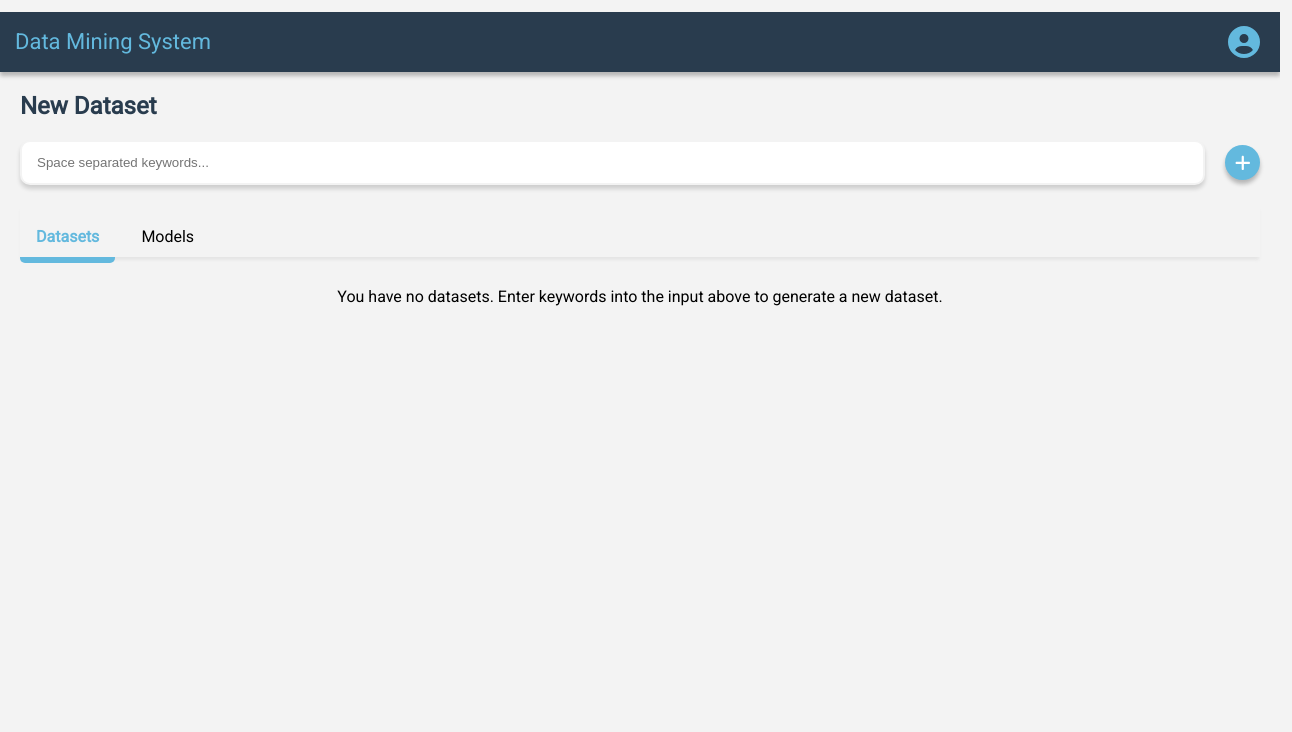
Test case: Analogy Test Page › Black box tests › should show error message if submit is clicked without entering word
This screenshot has width=1292, height=732.
Click the list item "Models".
click(168, 237)  # box x1=141 y1=227 x2=194 y2=246
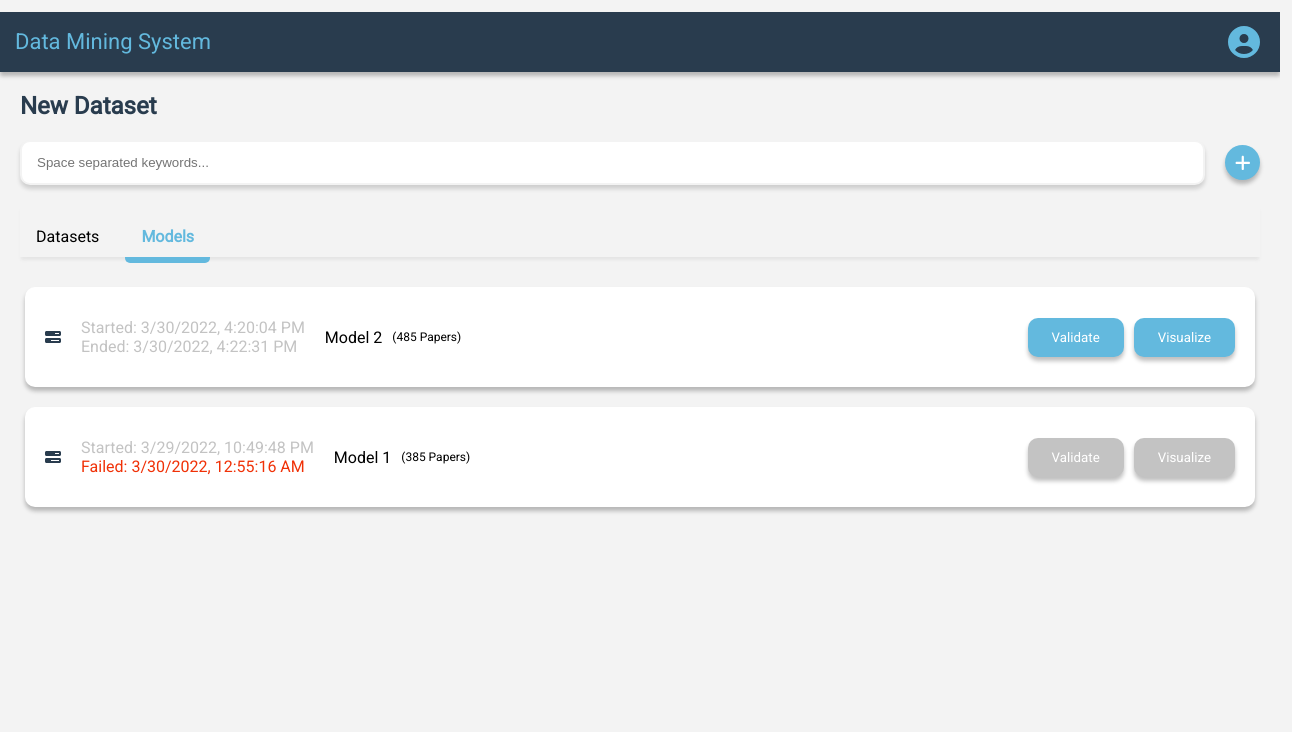
Click the button "Validate" in the row of "485".
click(1076, 338)  # box x1=1028 y1=318 x2=1124 y2=357
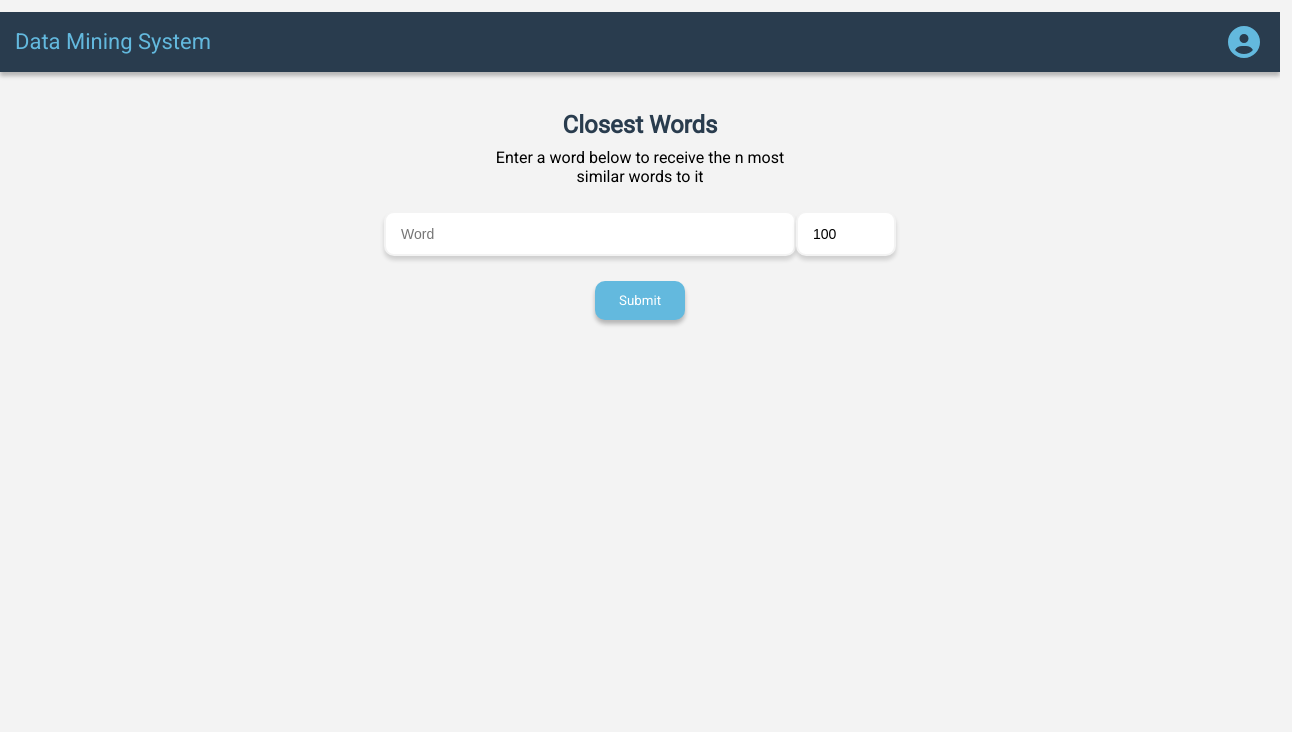
Type "word" into the field with id "closest-word-input".
click(590, 234); type("word")  # box x1=384 y1=211 x2=796 y2=256
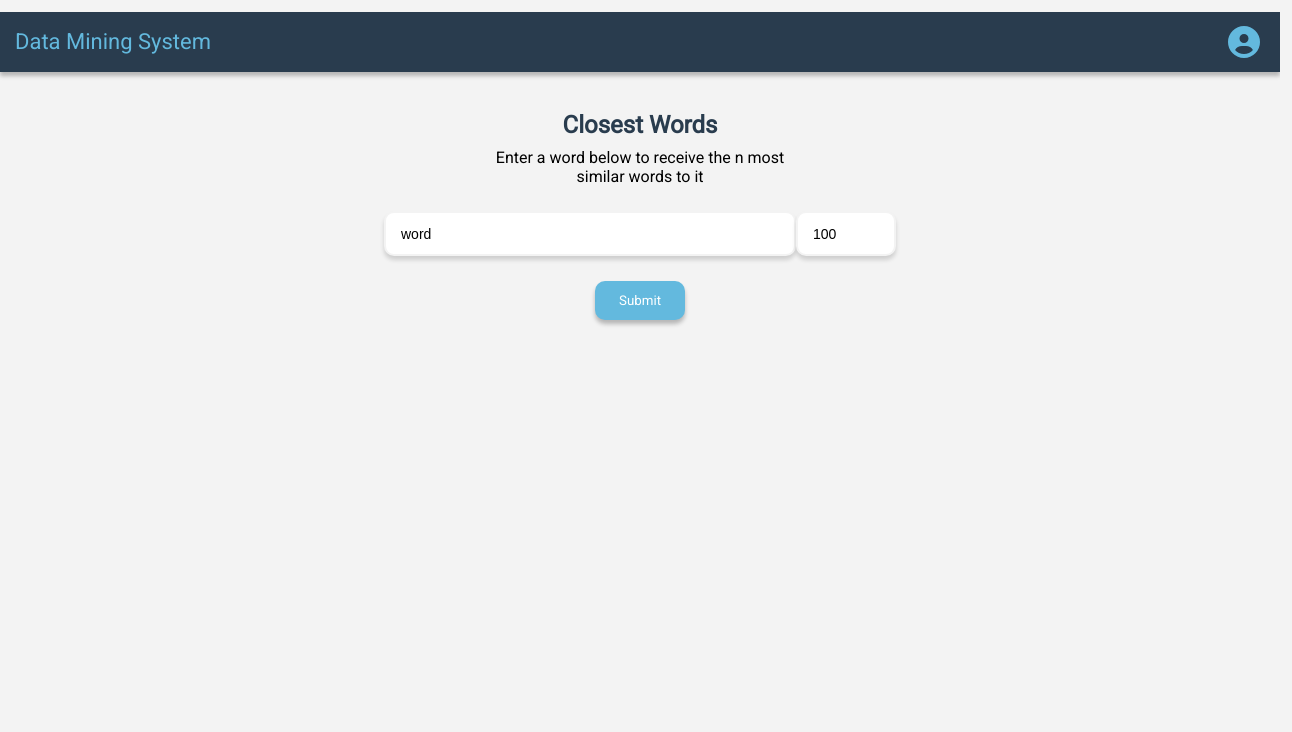
Click the button "Submit".
click(640, 301)  # box x1=595 y1=281 x2=685 y2=320
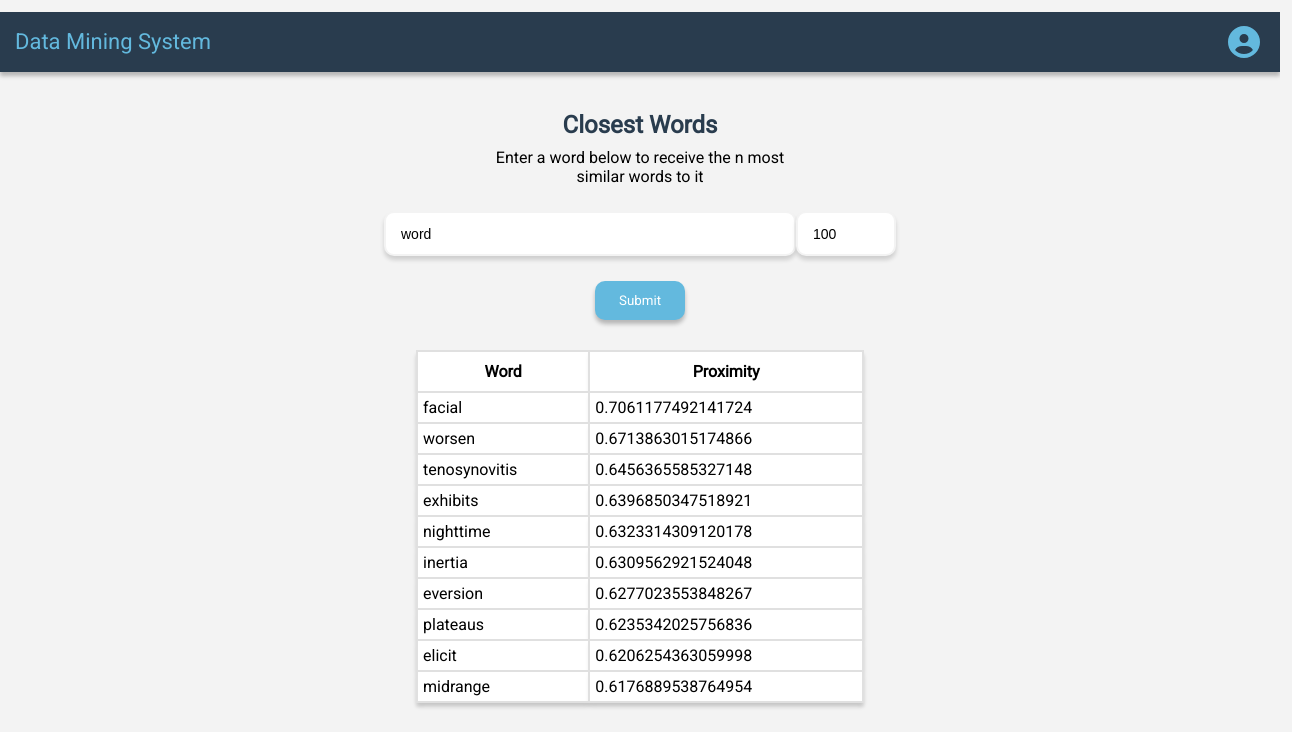
Click the cell "facial".
click(503, 408)  # box x1=417 y1=392 x2=589 y2=423
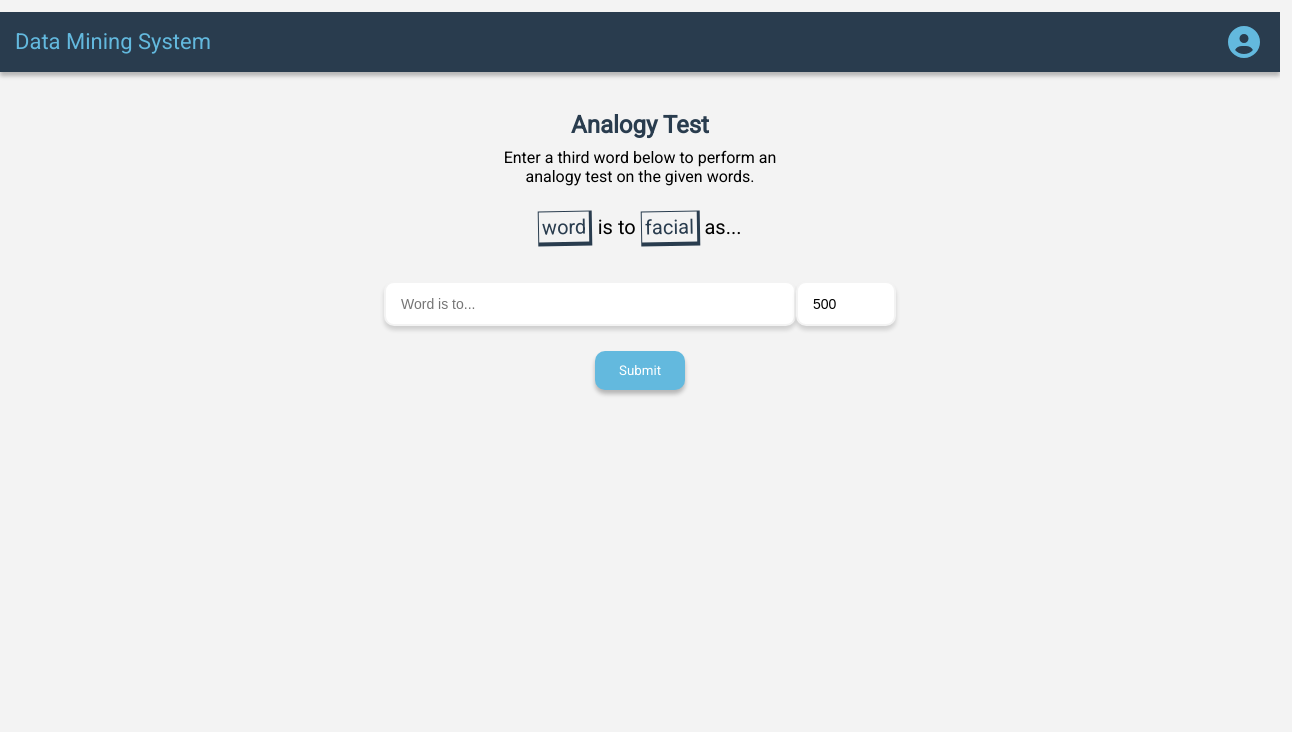
Click the button "Submit".
click(640, 371)  # box x1=595 y1=351 x2=685 y2=390
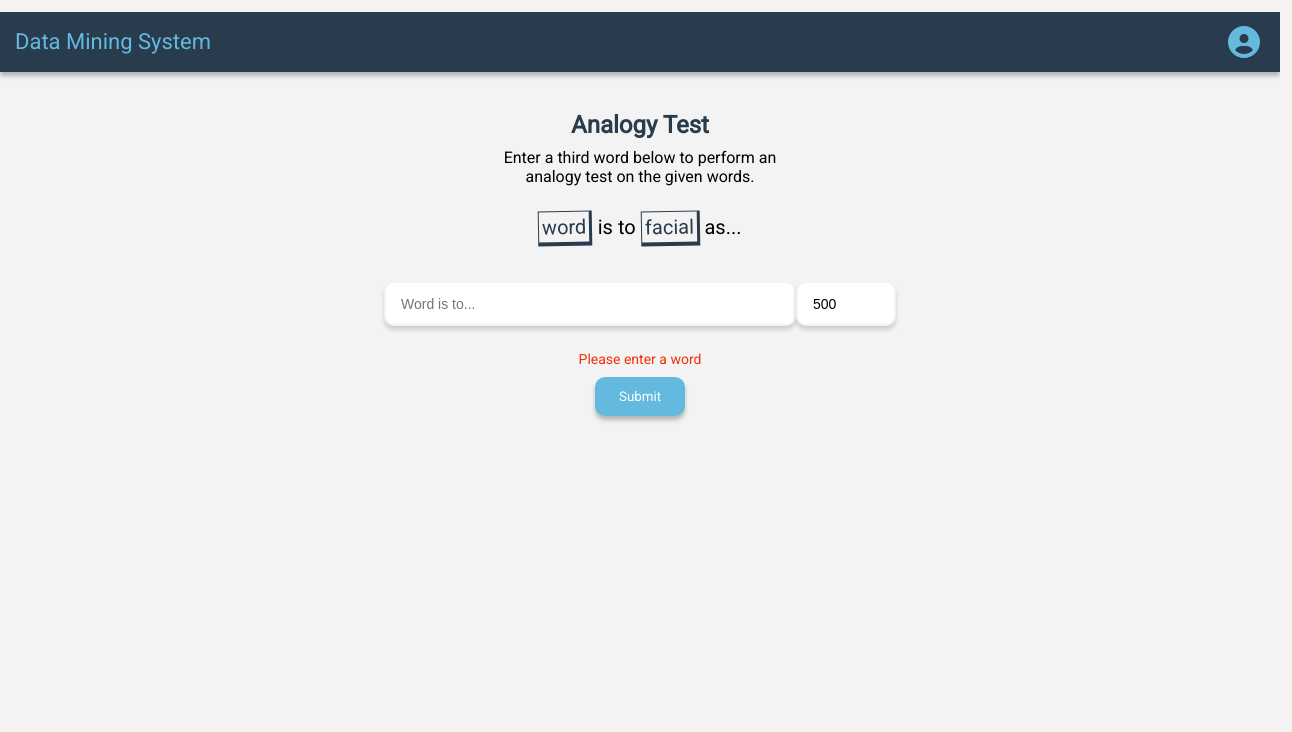
Expected: the text "Please enter a word" is shown, x1=578 y1=351 x2=701 y2=367
